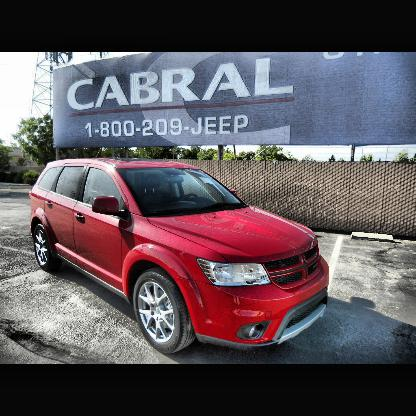Dodge Journey SUV 2012: (29, 159, 331, 353)
